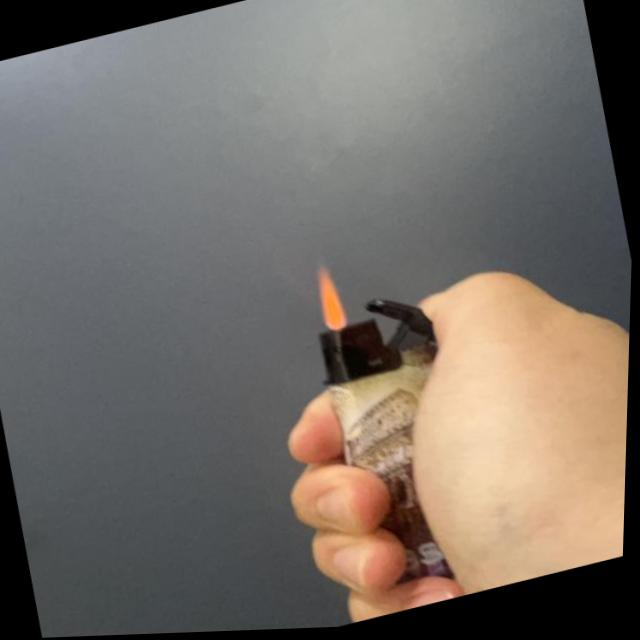Fire: (309, 257, 354, 337)
